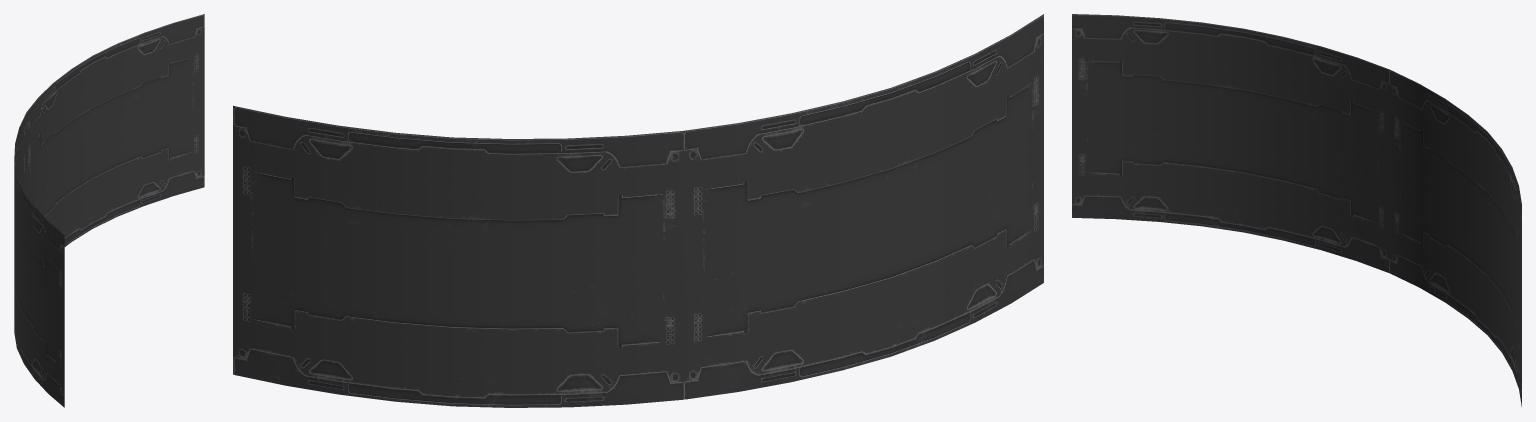
Rendered from S_ShortWallDarkMetal2CornerInner.gltf.
3 renders of one model, left to right at view 1: azimuth 30°, elevation 25°; view 2: azimuth 150°, elevation 25°; view 3: azimuth 270°, elevation 25°, orthographic. The views are drawn at different scales.
Visible parts, largest first — view 1: Plane_297-col; view 2: Plane_297-col; view 3: Plane_297-col.
Part boxes in pixels (x1,y1,x2,y2): Plane_297-col: (14,14,204,407); Plane_297-col: (233,14,1043,407); Plane_297-col: (1072,14,1521,406).
Bounding box in the file's own units: 4 × 2 × 4.
Materials: 1 (1 with a texture image).
